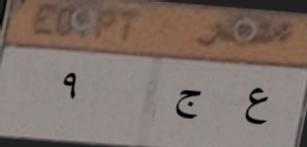9: (56, 66, 81, 103)
ain: (243, 80, 271, 131)
jeem: (171, 82, 201, 125)
